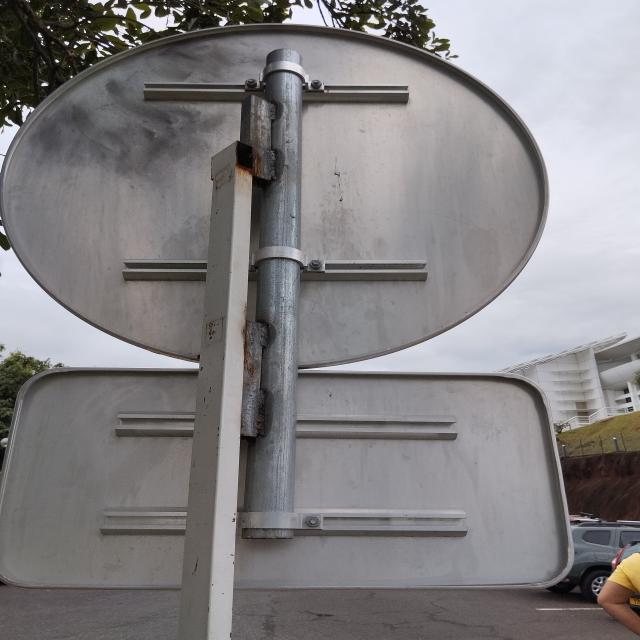Panneau: (4, 14, 545, 367)
